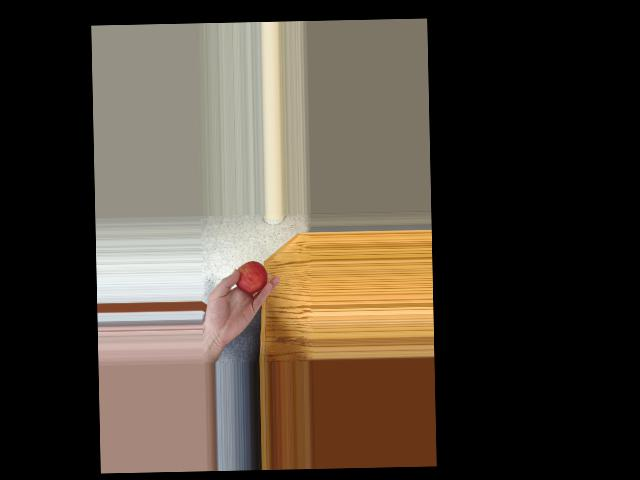apple: (234, 261, 267, 296)
